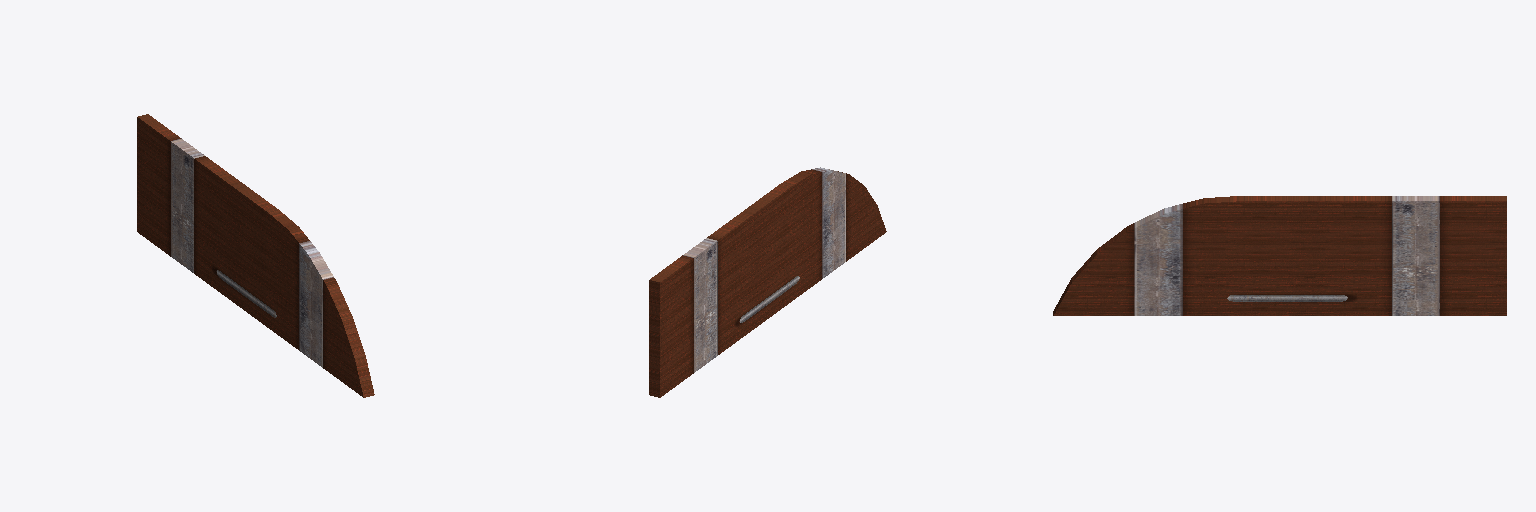
3 renders of one model, left to right at view 1: azimuth 30°, elevation 25°; view 2: azimuth 150°, elevation 25°; view 3: azimuth 270°, elevation 25°, orthographic.
Parts seen in each view (by area): view 1: Line022_Mesh.019; view 2: Line022_Mesh.019; view 3: Line022_Mesh.019.
Boxes of the visible parts, x1,y1,x2,y2 form: Line022_Mesh.019: [137, 114, 374, 397]; Line022_Mesh.019: [649, 167, 886, 397]; Line022_Mesh.019: [1053, 196, 1506, 315].
Bounding box in the file's own units: 0.0508 × 0.508 × 1.81.
Materials: 1 (1 with a texture image).